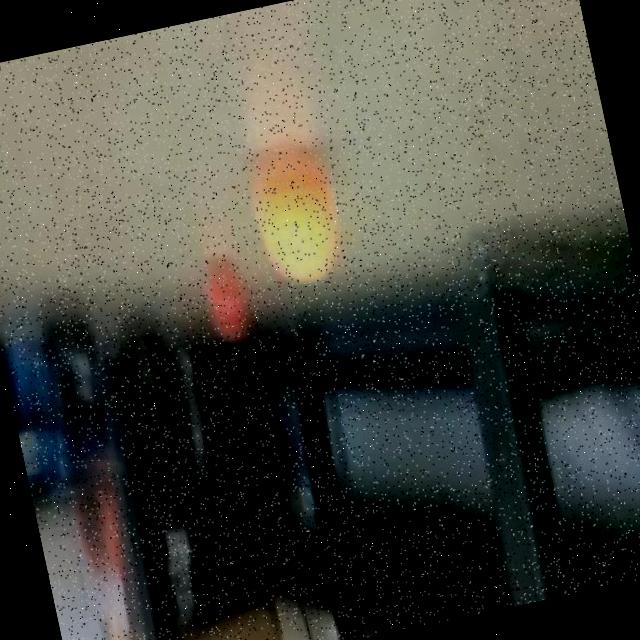ping-pong-ball: (236, 152, 352, 286), (197, 260, 249, 341)
